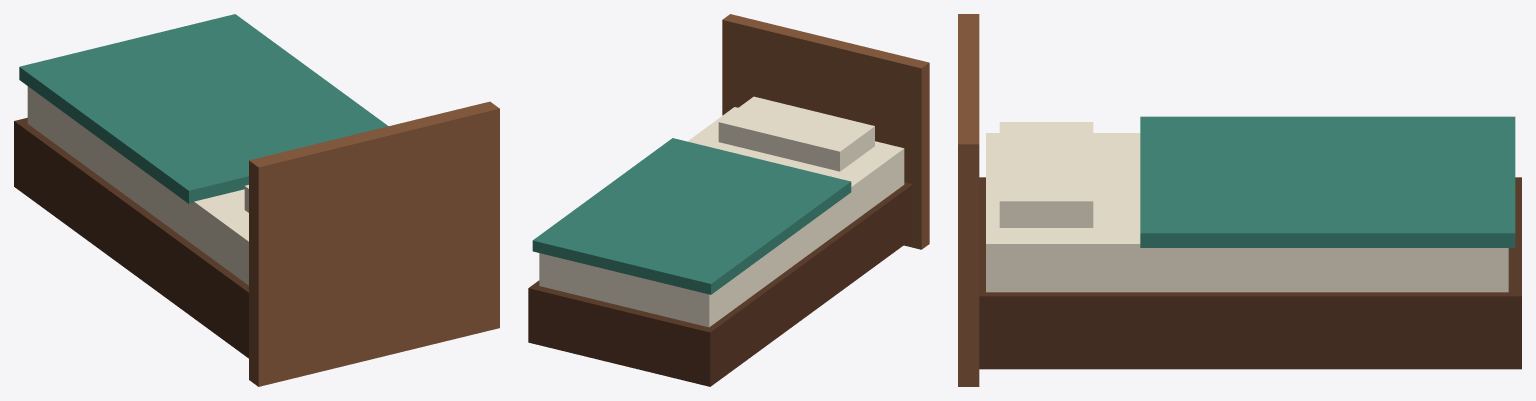
Rendered from bed.glb.
The picture shows the model from 3 angles, left to right: view 1: azimuth 30°, elevation 25°; view 2: azimuth 150°, elevation 25°; view 3: azimuth 270°, elevation 25°; orthographic projection. The views are drawn at different scales.
Parts seen in each view (by area): view 1: Box5, Box3, Box1, Box2; view 2: Box3, Box1, Box5, Box2, Box4; view 3: Box3, Box1, Box2, Box4, Box5.
Boxes of the visible parts, x1,y1,x2,y2 form: Box5: (249,101,499,386); Box3: (19,14,388,203); Box1: (14,117,248,358); Box2: (27,86,248,285); Box3: (532,138,851,294); Box1: (528,182,912,386); Box5: (722,14,929,249); Box2: (539,107,904,327); Box4: (718,96,874,171); Box3: (1140,116,1515,247); Box1: (979,177,1521,369); Box2: (986,133,1508,292); Box4: (999,122,1093,227); Box5: (958,14,979,386).
Bounding box in the file's own units: 1.15 × 1 × 2.11.
